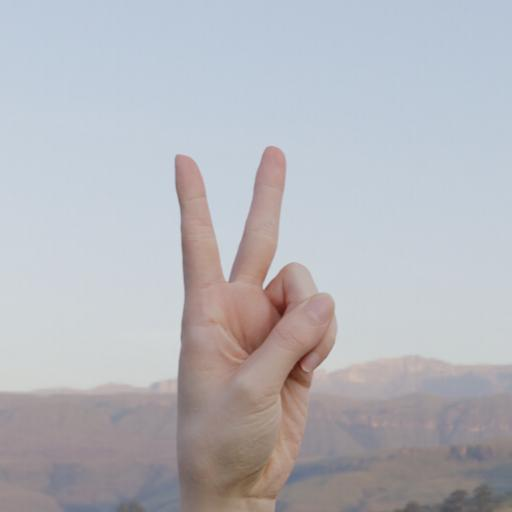V: (170, 144, 345, 512)
